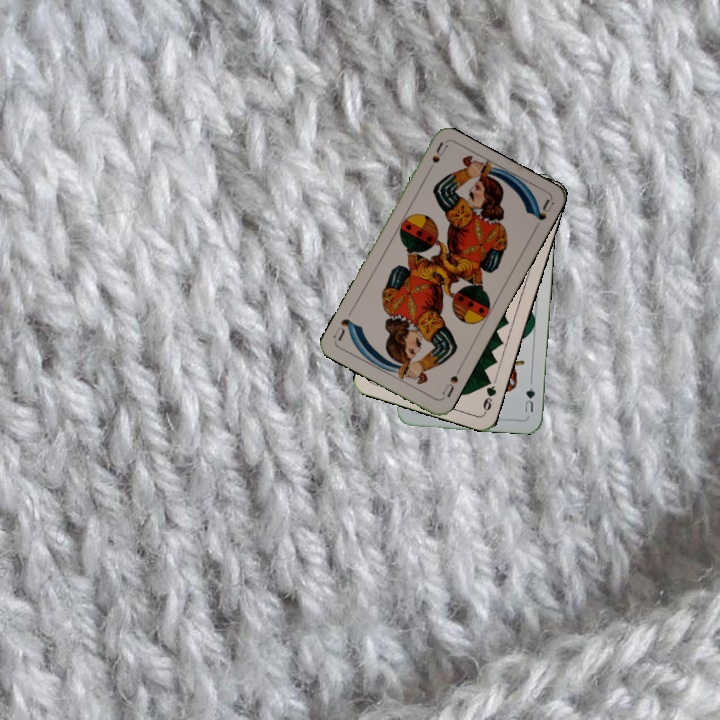G9: (479, 374, 499, 415)
GU: (520, 377, 537, 415)
SU: (422, 139, 450, 178), (438, 364, 463, 401)
